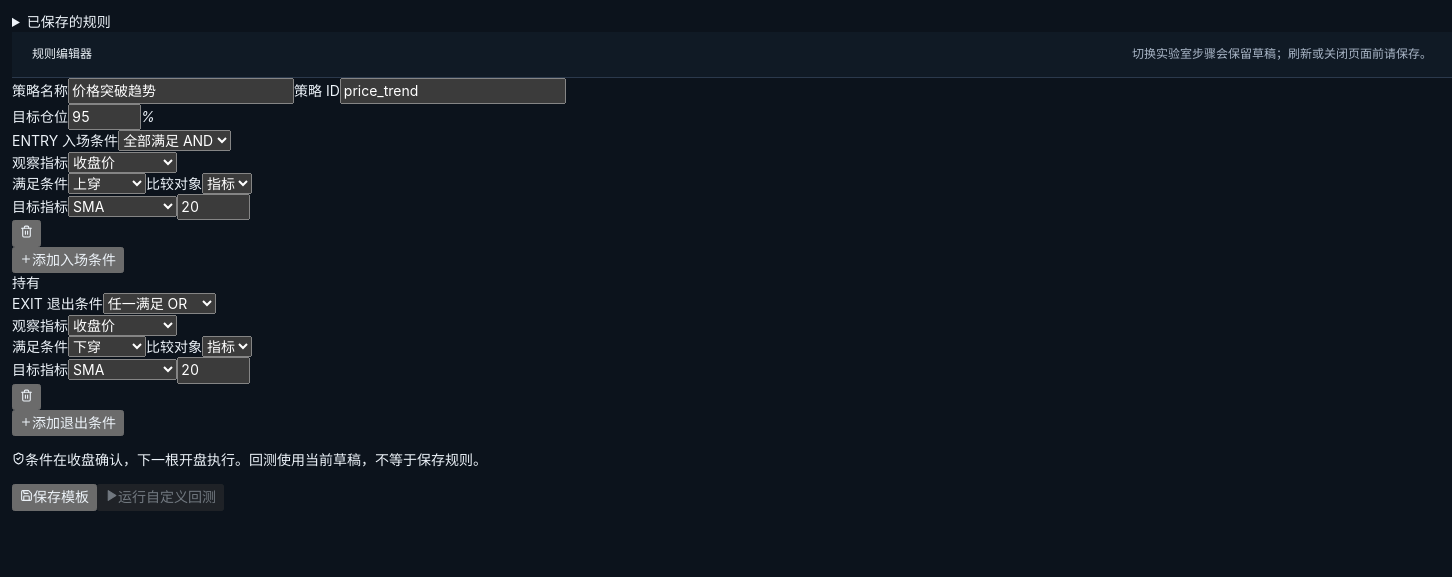
Test case: rule drafts › does not mark edits made during a rule save as saved
The width and height of the screenshot is (1452, 577).
Replace the text in the field labelled "策略名称" with "提交时的规则" at (181, 91), box [68,78,294,104]
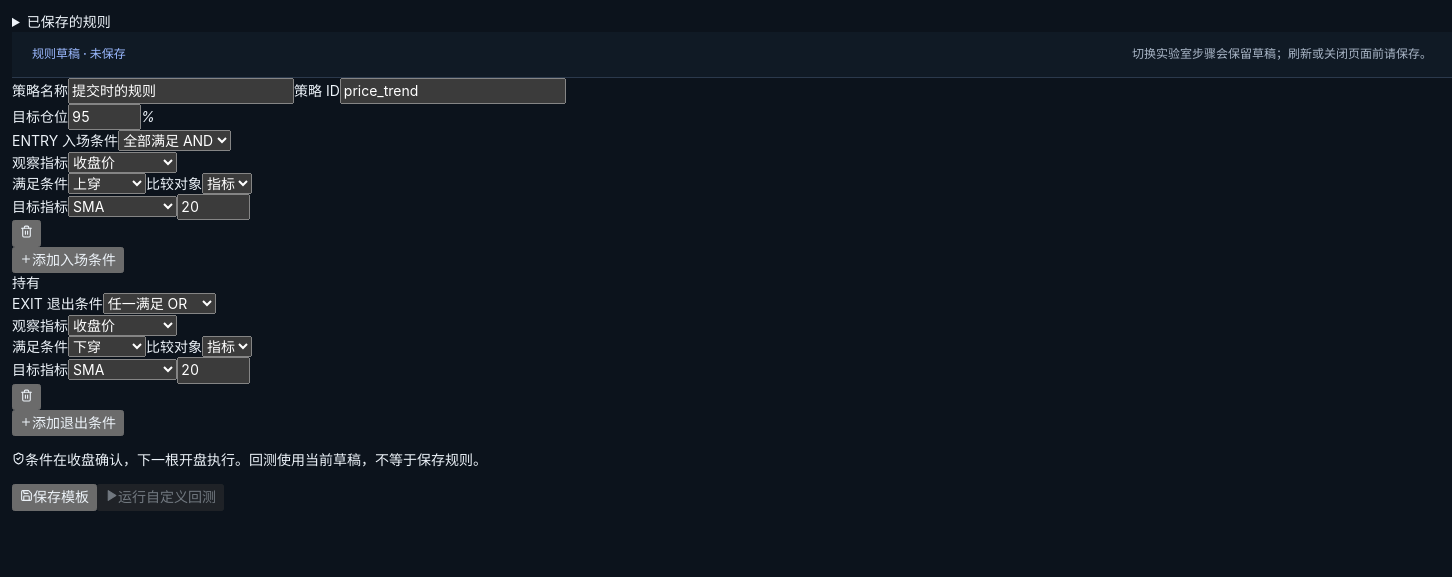
Click the button "保存模板".
click(54, 498)  # box [12,484,97,511]
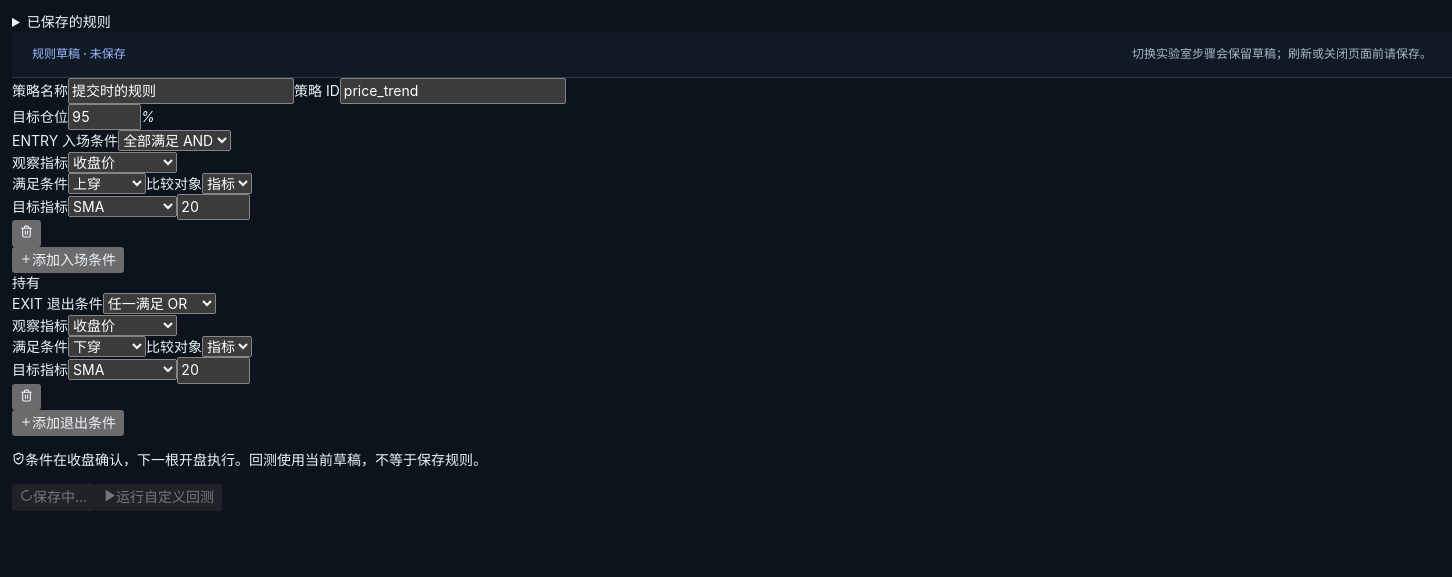
Replace the text in the field labelled "策略名称" with "保存期间的新规则" at (181, 91), box [68,78,294,104]
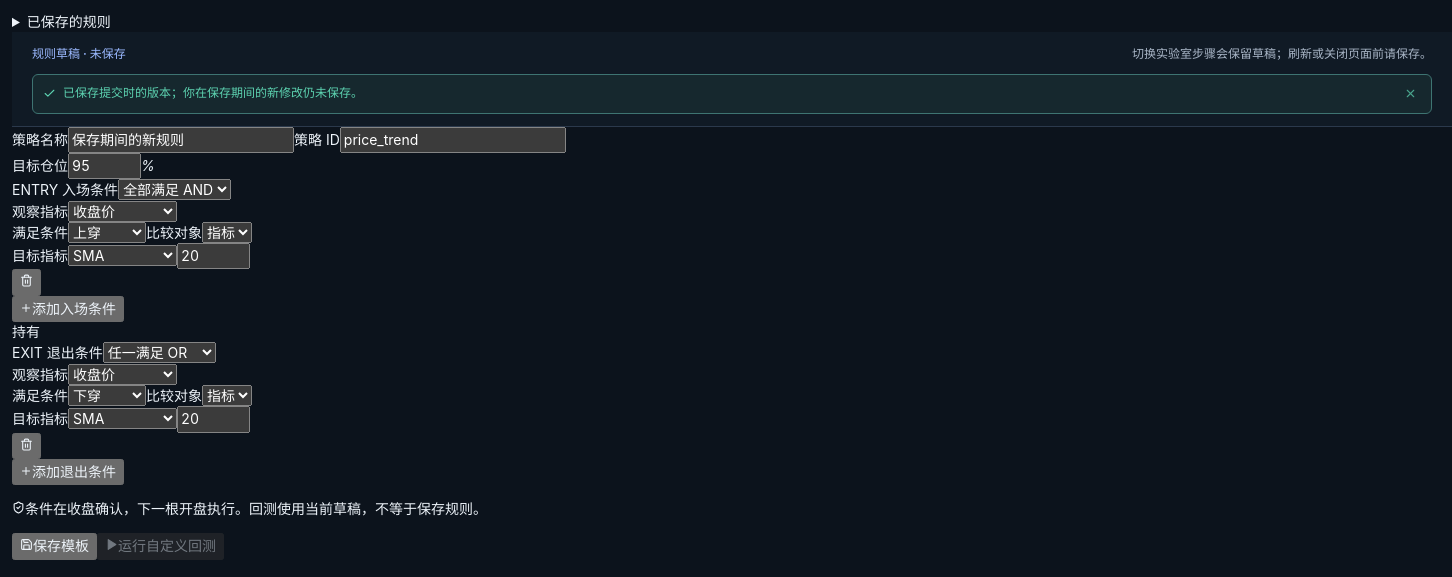
Now the text "规则草稿 · 未保存" is shown, box [32,44,126,65]
Now the message shows "新修改仍未保存", box [63,85,363,100]
